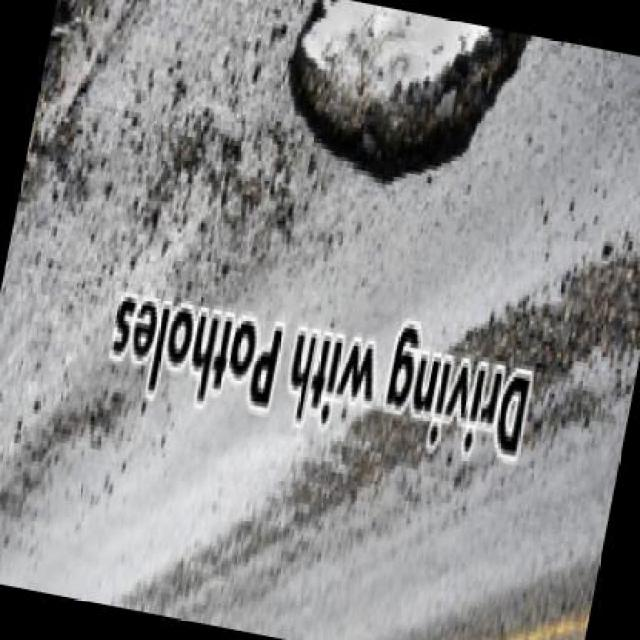pothole1: (267, 0, 535, 220)
